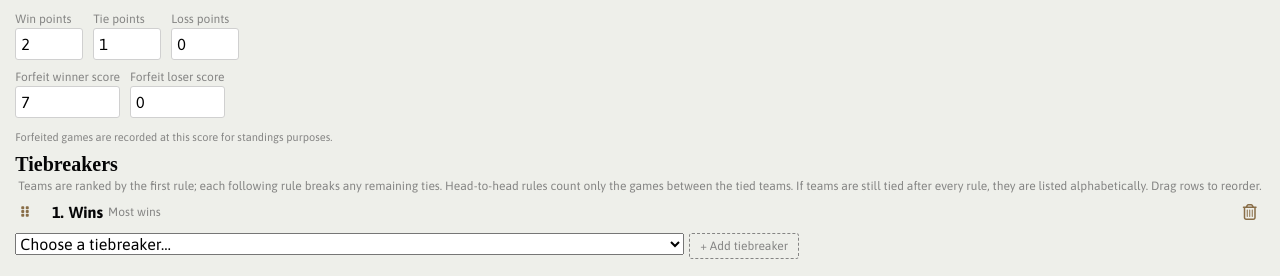
Test case: StandingsRulesEditor › reports a problem when every tiebreaker is removed
Click the button named "Remove tiebreaker 1 (Wins)": (1250, 212) top-left (1235, 201), bottom-right (1265, 223)
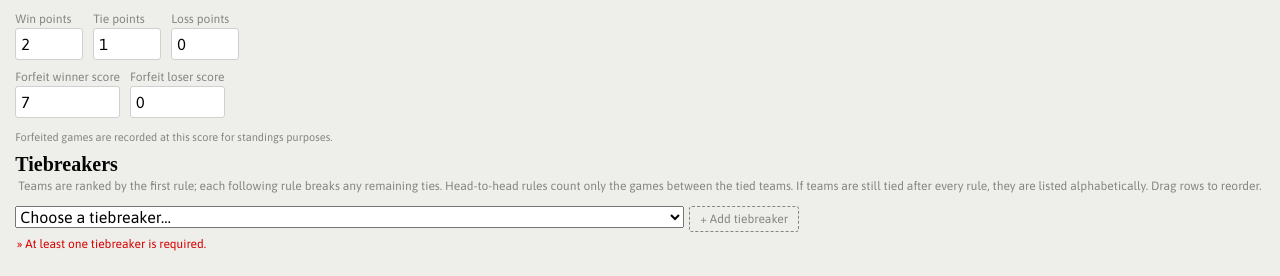
Now the list item "At least one tiebreaker is required." is shown, box top-left (25, 237), bottom-right (206, 251)
